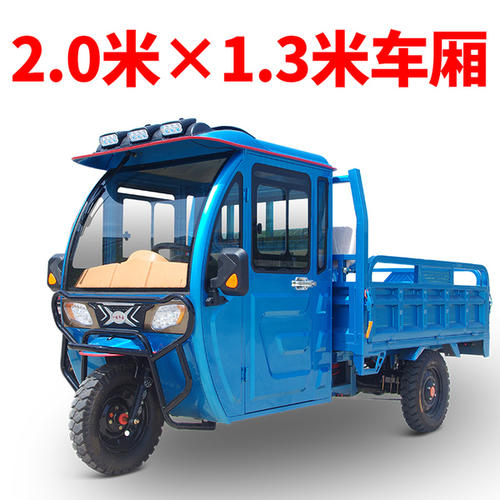tricycle: (48, 111, 484, 471)
